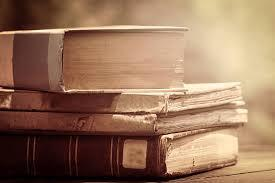Paper: (0, 5, 257, 183)
